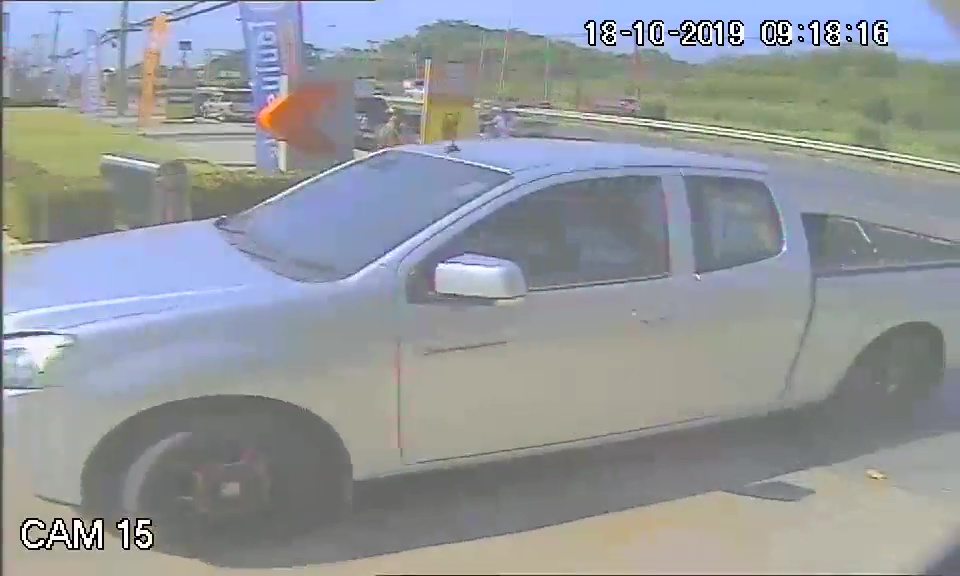pickup: (7, 134, 829, 498)
